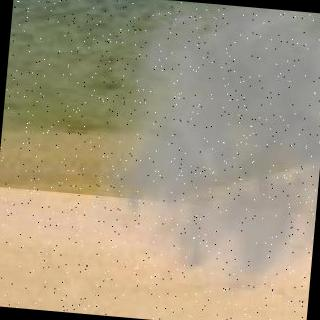smoke: (90, 0, 320, 294)
